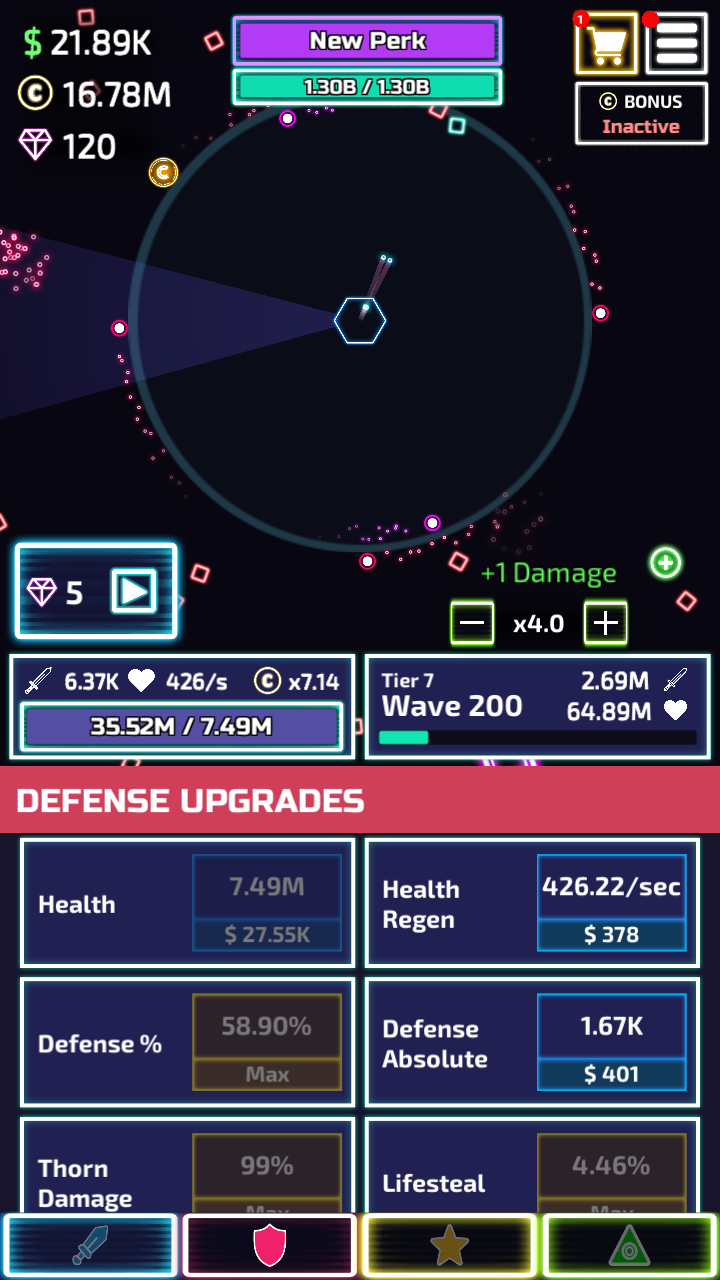B_Gem_Ad: (14, 542, 178, 637)
B_Menu_Action_Required: (638, 7, 703, 72)
B_Menu_Closed: (570, 10, 707, 75)
B_New_Perk: (233, 16, 498, 62)
B_Shop_Action_Required: (571, 7, 637, 69)
B_Slot: (17, 837, 352, 959), (366, 839, 696, 961), (366, 978, 696, 1100), (21, 978, 353, 1098), (365, 1119, 695, 1209), (20, 1120, 347, 1210)
B_Slot_Button: (188, 860, 344, 954), (532, 997, 688, 1091), (534, 858, 688, 952), (189, 999, 343, 1090), (533, 1136, 688, 1209), (187, 1136, 339, 1208)
B_Slot_Label: (369, 1008, 505, 1080), (23, 1148, 146, 1214), (29, 1021, 173, 1072), (372, 870, 474, 937), (369, 1154, 501, 1204), (26, 879, 139, 927)
B_Slot_Maxed: (186, 994, 344, 1094), (531, 1134, 689, 1209), (185, 1135, 340, 1208)
B_Slot_Price: (204, 918, 331, 948), (559, 917, 657, 952), (560, 1057, 655, 1090)
B_Slot_TooExpensive: (191, 856, 340, 951)
B_Slot_Value: (543, 868, 685, 906), (550, 1144, 665, 1183), (204, 1007, 326, 1043), (205, 868, 322, 904), (555, 1005, 657, 1044), (211, 1147, 310, 1183)
B_Tab_Defense: (2, 768, 718, 835)
